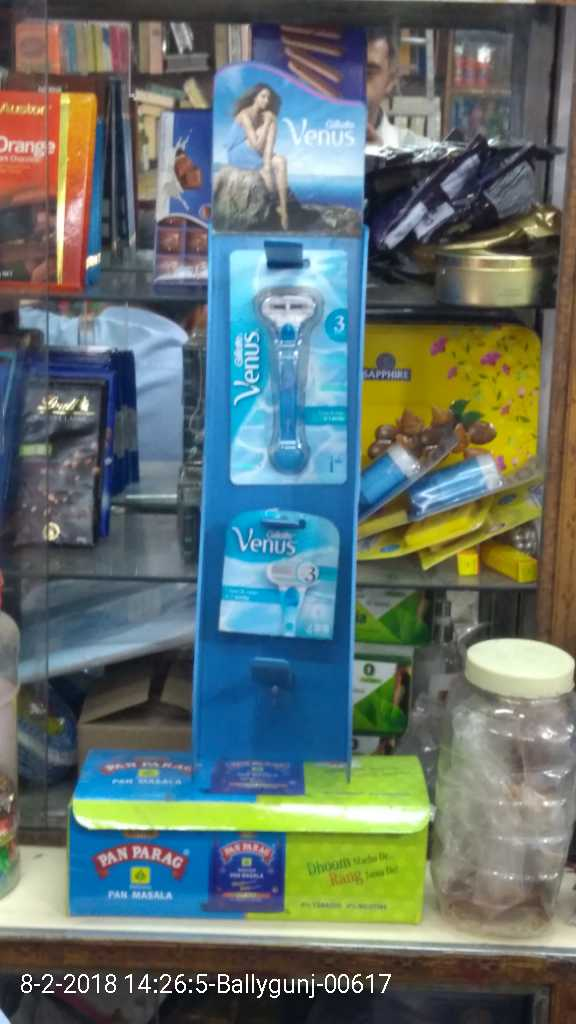venus: (232, 242, 345, 497), (218, 514, 342, 642)
